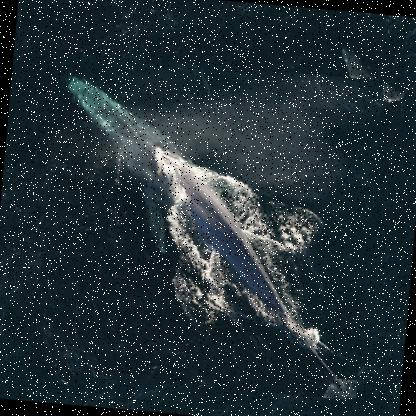blue_whale: (30, 51, 383, 400)
